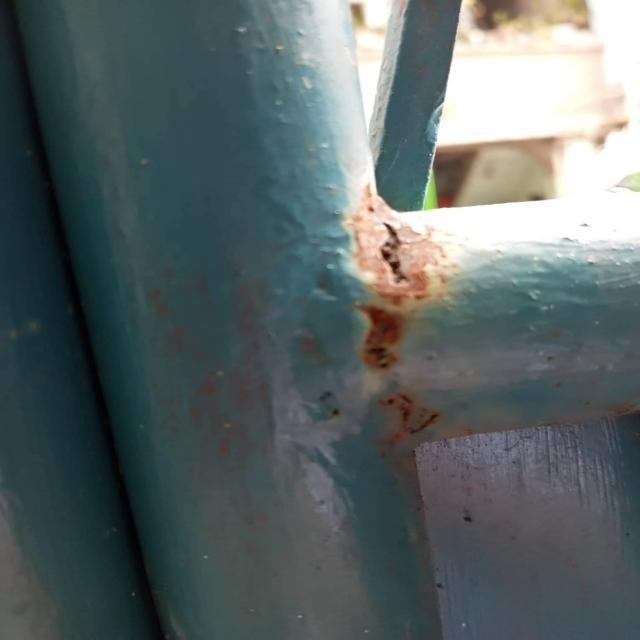Crack: (376, 219, 420, 292)
